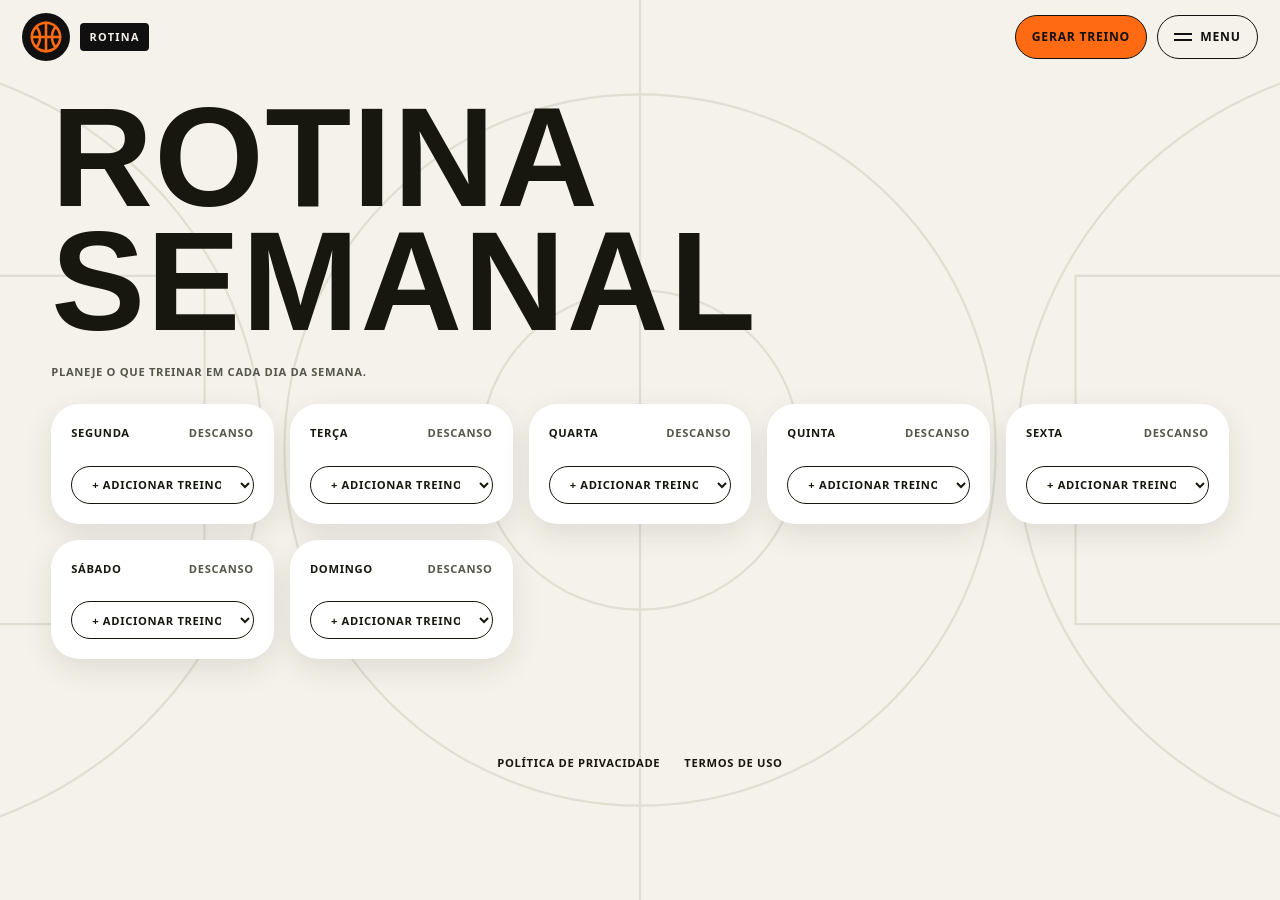
Rotina semanal › desfaz a mudança e avisa quando o servidor recusa
The width and height of the screenshot is (1280, 900).
Select "Lance livre" in the dropdown named "Adicionar treino: Sexta": (1117, 485) [1026, 466, 1209, 504]
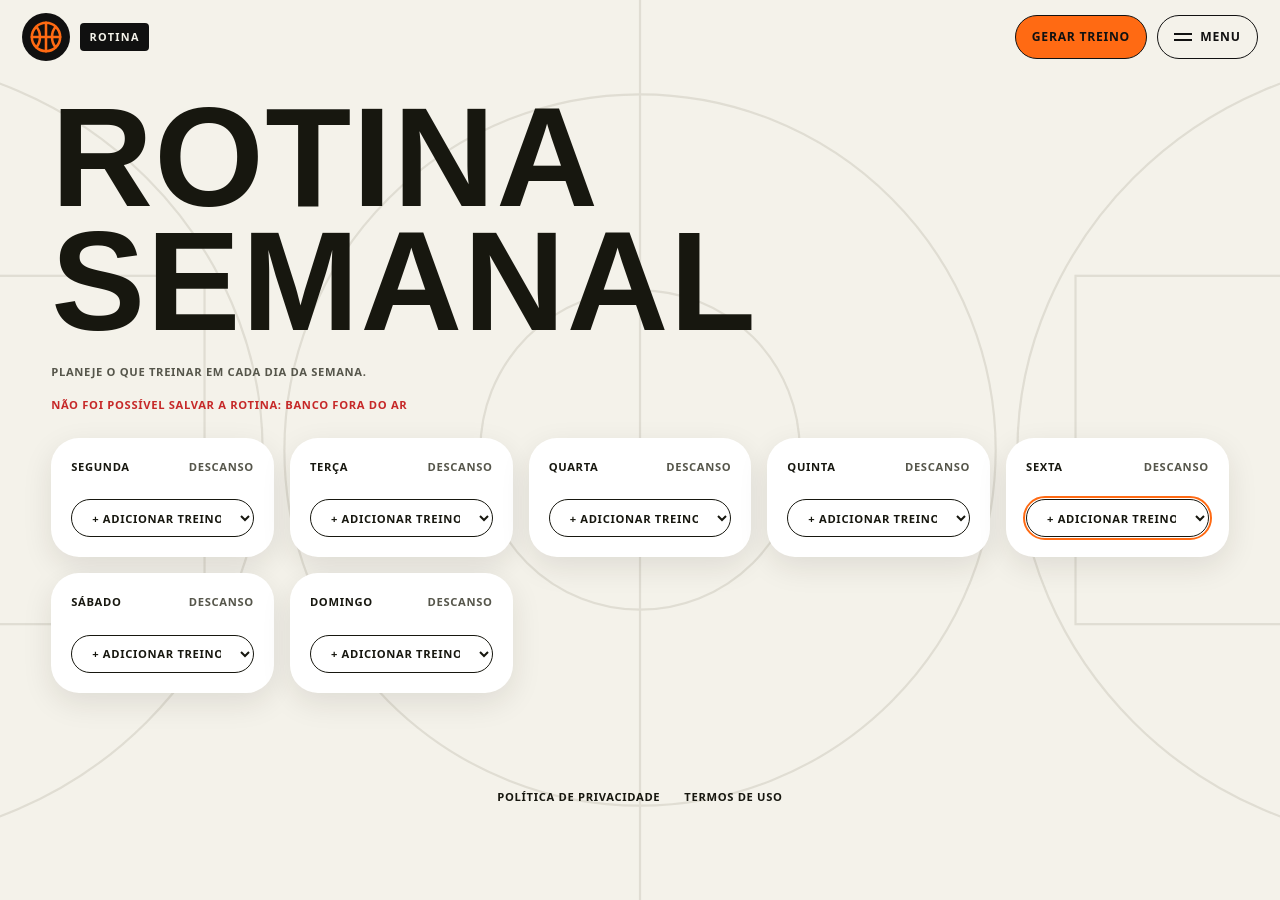
Expected: the text "Descanso" next to "Sexta" is shown, [1144, 459, 1209, 474]
Now the message reads "Não foi possível salvar a rotina: Banco fora do ar", box [51, 397, 407, 412]
